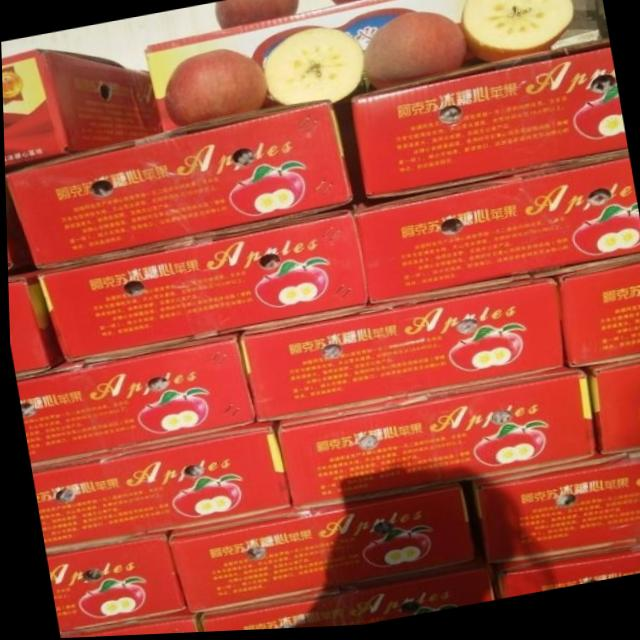box: (9, 102, 349, 267), (34, 208, 372, 366), (233, 280, 568, 425), (144, 0, 487, 136), (342, 156, 640, 311), (273, 369, 595, 509), (349, 43, 625, 200), (167, 481, 479, 612), (14, 330, 255, 471), (30, 423, 293, 550), (187, 563, 495, 634), (1, 46, 161, 169), (472, 459, 640, 564), (42, 530, 184, 635), (556, 261, 640, 370), (485, 545, 640, 603), (6, 267, 61, 376), (578, 365, 640, 461), (60, 611, 196, 638), (4, 173, 34, 271)
